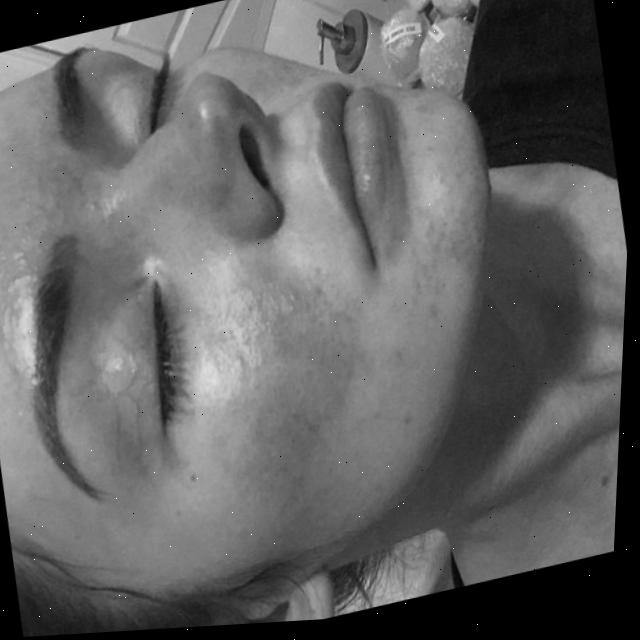Rosacea: (201, 243, 385, 514), (388, 112, 506, 293), (0, 104, 95, 238)
